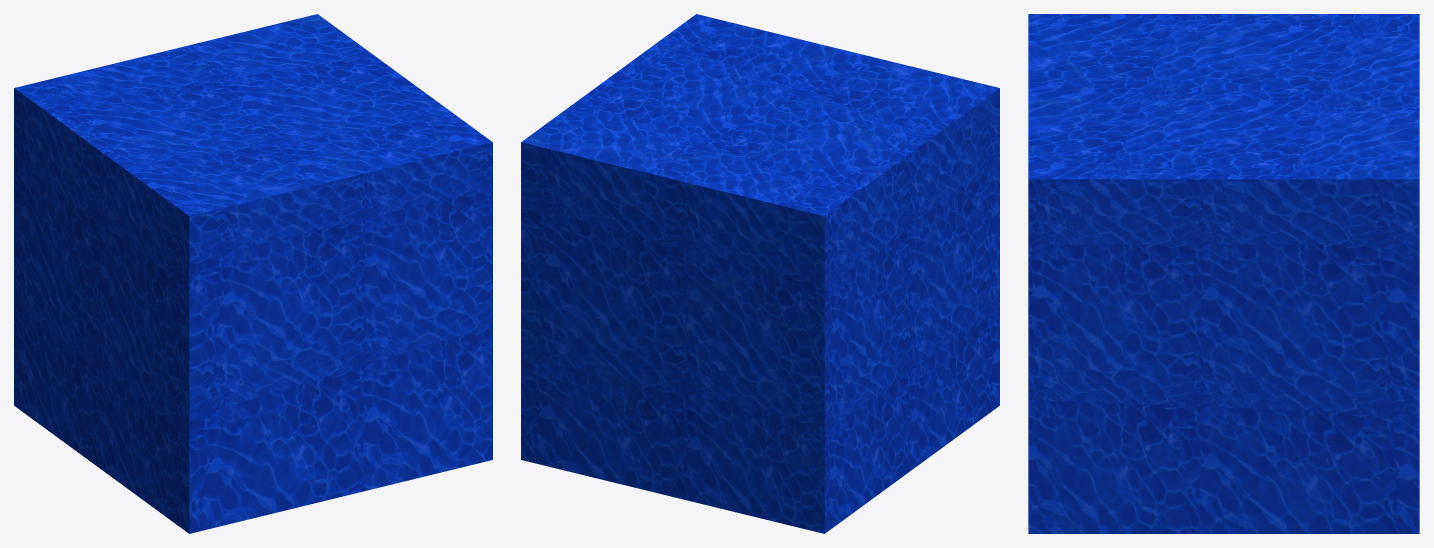
Rendered from deep_water2.glb.
The picture shows the model from 3 angles, left to right: view 1: azimuth 30°, elevation 25°; view 2: azimuth 150°, elevation 25°; view 3: azimuth 270°, elevation 25°; orthographic projection. The views are drawn at different scales.
Visible parts, largest first — view 1: Block_Grass; view 2: Block_Grass; view 3: Block_Grass.
Part boxes in pixels (left/top/right/bottom): Block_Grass: left=14, top=14, right=492, bottom=533; Block_Grass: left=521, top=14, right=999, bottom=533; Block_Grass: left=1028, top=14, right=1419, bottom=533.
Size of the model in its own units: 2 by 2 by 2.
1 material, 1 textured.
